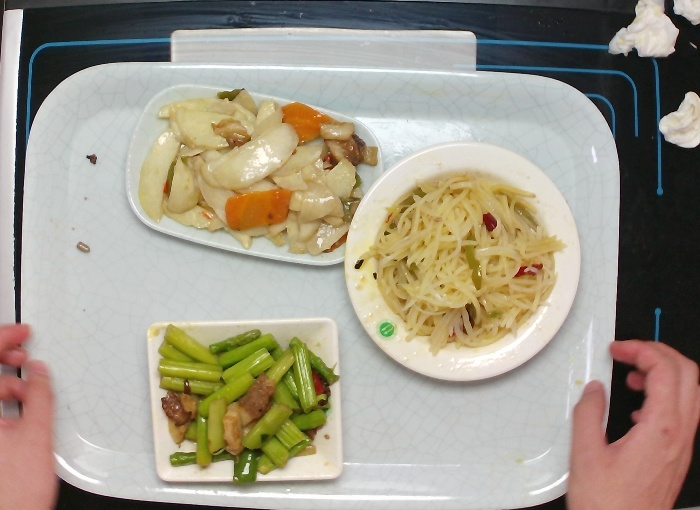WCQzf-Bai_Se_Si_Fang_Die: (146, 315, 345, 486)
WCQzf-Kuan_Bian_Yuan_Die: (343, 141, 585, 385)
WCQzf-Tuo_Yuan_Pan: (122, 82, 386, 267)
